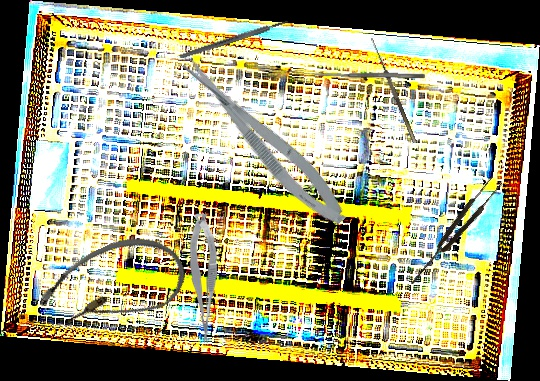Cannula: (30, 220, 195, 353)
Hook Surgical: (365, 37, 417, 146)
Micro Scissor: (175, 46, 355, 236), (184, 212, 221, 344)
Scalpel Handle: (178, 18, 290, 60)
Spatula Surgical: (313, 71, 426, 79)
Tissue Forceps: (404, 174, 505, 289)
